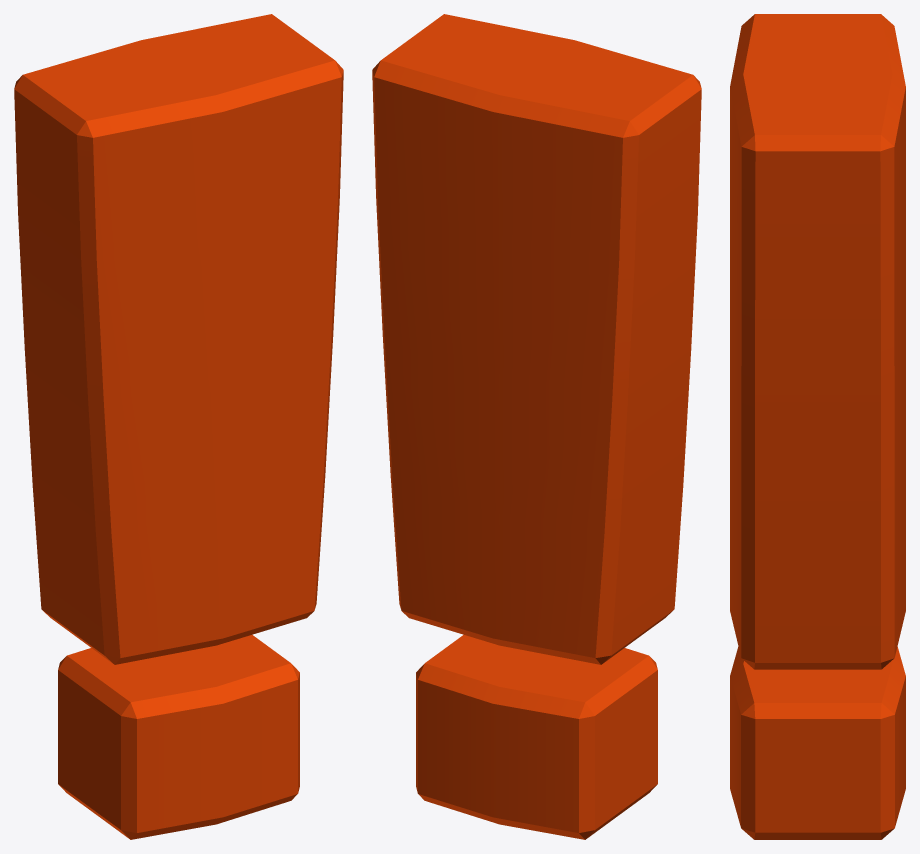
File: Exclamation.fbx
3 renders of one model, left to right at view 1: azimuth 30°, elevation 25°; view 2: azimuth 150°, elevation 25°; view 3: azimuth 270°, elevation 25°, orthographic.
Visible parts, largest first — view 1: pCube3; view 2: pCube3; view 3: pCube3.
Boxes of the visible parts, <box> form: pCube3: <box>14,14,343,839</box>; pCube3: <box>372,14,701,839</box>; pCube3: <box>730,14,905,839</box>.
Bounding box in the file's own units: 20.3 × 53 × 11.64.
